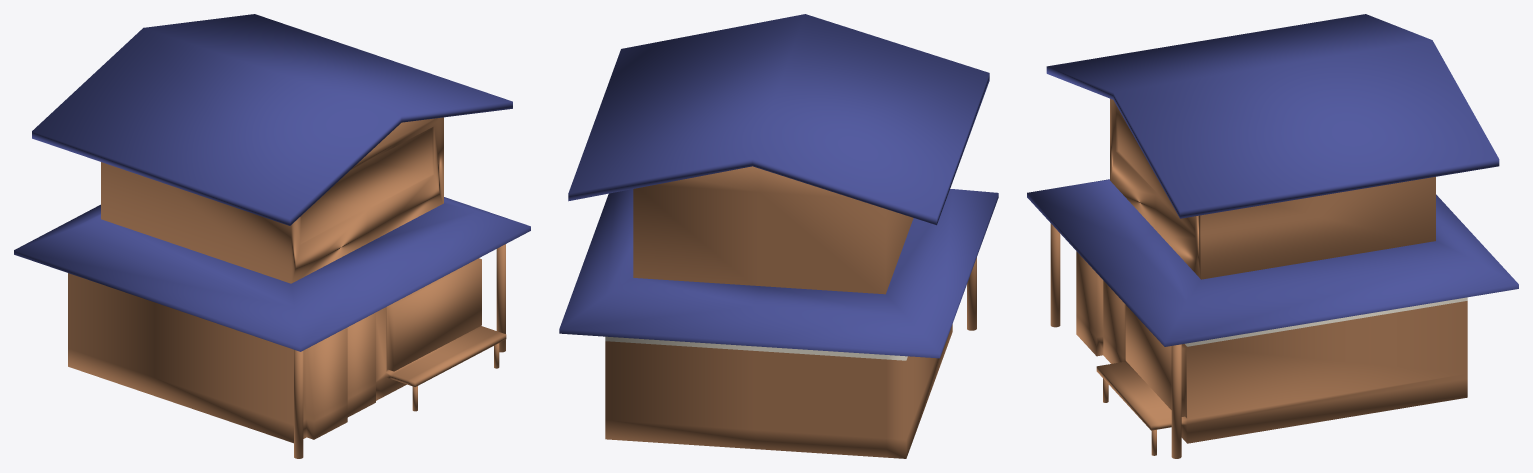
File: 036_古民家002.glb
3 renders of one model, left to right at view 1: azimuth 30°, elevation 25°; view 2: azimuth 150°, elevation 25°; view 3: azimuth 270°, elevation 25°, orthographic. The views are drawn at different scales.
Parts seen in each view (by area): view 1: 立方体018_1, 立方体018_3, 立方体018_4, 立方体018; view 2: 立方体018_1, 立方体018_3, 立方体018_2, 立方体018; view 3: 立方体018_1, 立方体018_3, 立方体018_4, 立方体018, 立方体018_2.
Part boxes in pixels (left/top/right/bottom): 立方体018_1: left=14, top=14, right=530, bottom=351; 立方体018_3: left=68, top=117, right=506, bottom=443; 立方体018_4: left=300, top=127, right=481, bottom=439; 立方体018: left=294, top=244, right=505, bottom=458; 立方体018_1: left=559, top=14, right=998, bottom=358; 立方体018_3: left=605, top=166, right=952, bottom=458; 立方体018_2: left=605, top=336, right=907, bottom=360; 立方体018: left=967, top=257, right=976, bottom=330; 立方体018_1: left=1027, top=14, right=1518, bottom=346; 立方体018_3: left=1096, top=98, right=1467, bottom=443; 立方体018_4: left=1076, top=110, right=1195, bottom=416; 立方体018: left=1050, top=223, right=1181, bottom=458; 立方体018_2: left=1185, top=297, right=1467, bottom=346.
Bounding box in the file's own units: 3.7 × 2.53 × 3.7.
